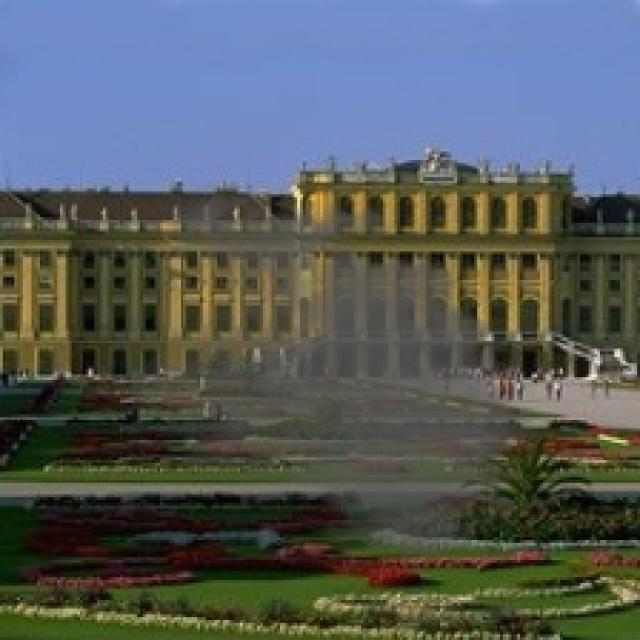Smoke: (132, 180, 552, 566)
